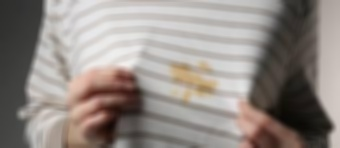mustard: (165, 67, 209, 83), (183, 88, 212, 103), (196, 60, 209, 71), (167, 87, 180, 98), (208, 76, 219, 89)
